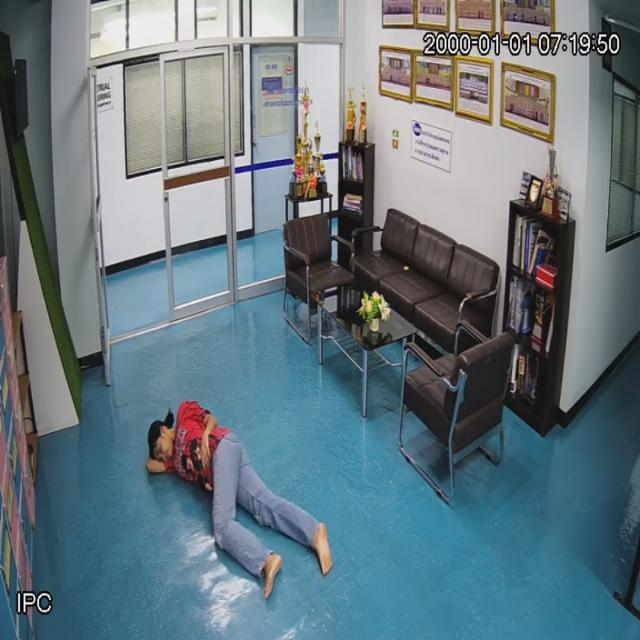fall: (141, 393, 335, 606)
